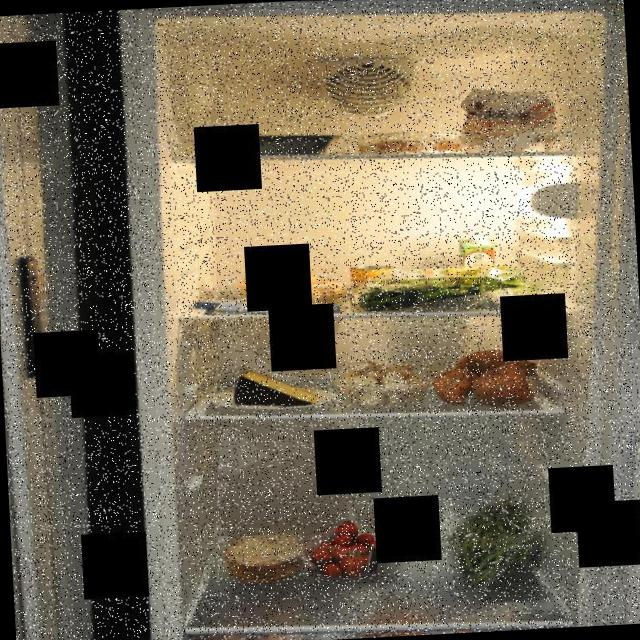Champiñones: (336, 354, 430, 411)
Gambas/Langostinos: (351, 132, 466, 160)
Patata: (232, 255, 353, 308)
Queso: (229, 366, 317, 411)
